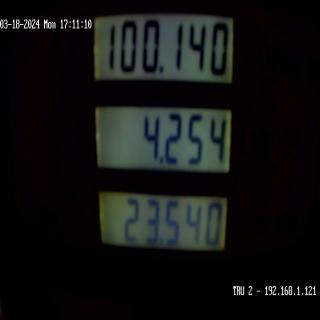screen: (91, 1, 242, 288)
